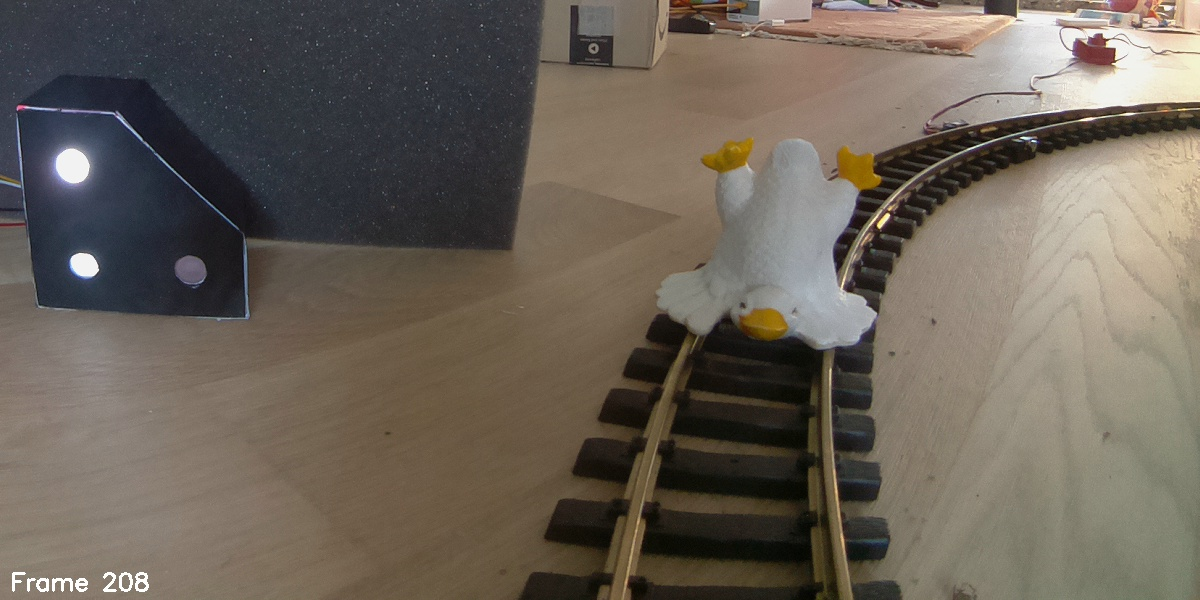Ente: (654, 133, 881, 370)
Fahrt: (14, 71, 252, 321)
